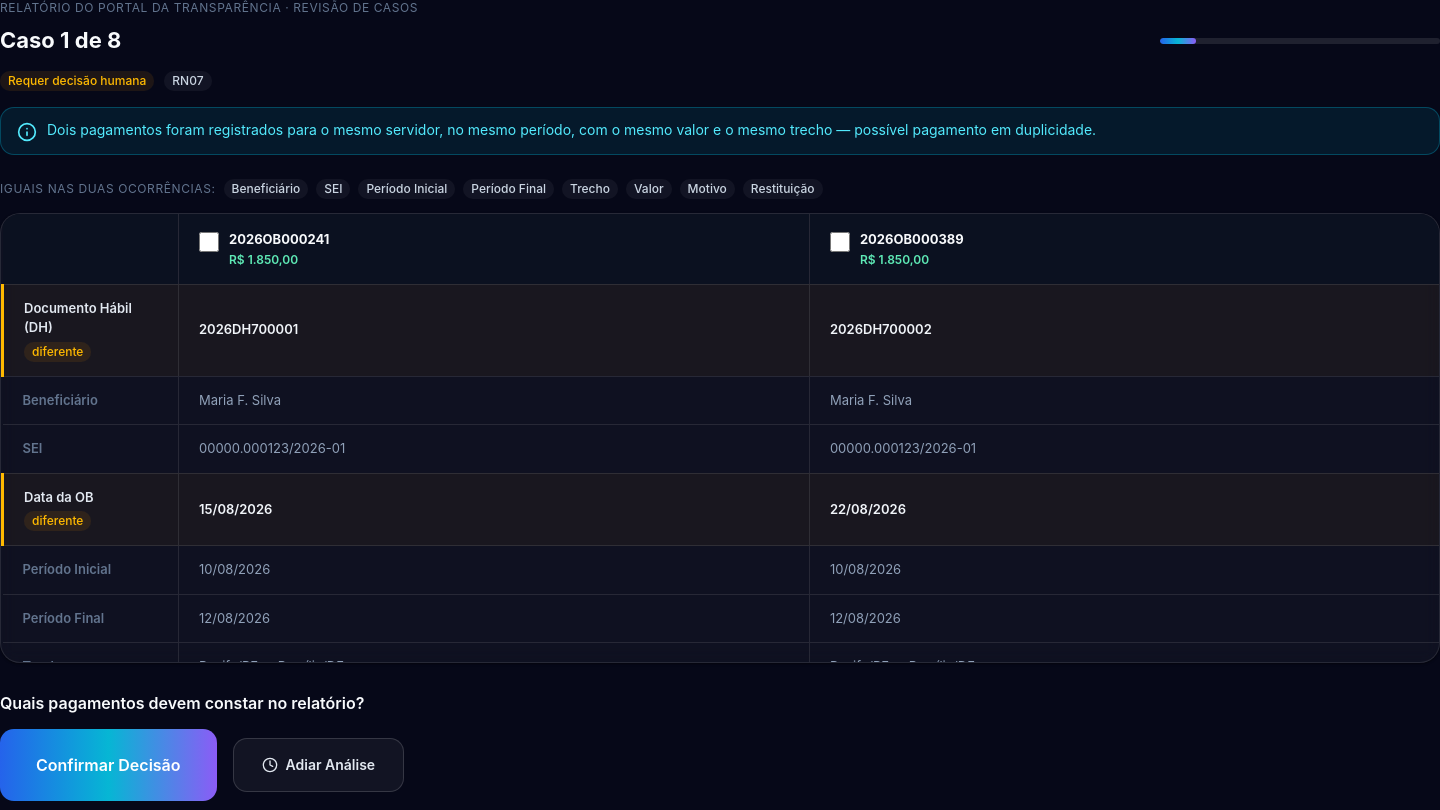
Scenario: PainelRevisaoCaso › diálogo de seleção vazia pede justificativa, só aparece nesse fluxo excepcional
Expected: the field labelled "Justificativa (obrigatória)" is not shown
Click the button "Confirmar Decisão": [108, 765] box [0,729,216,801]
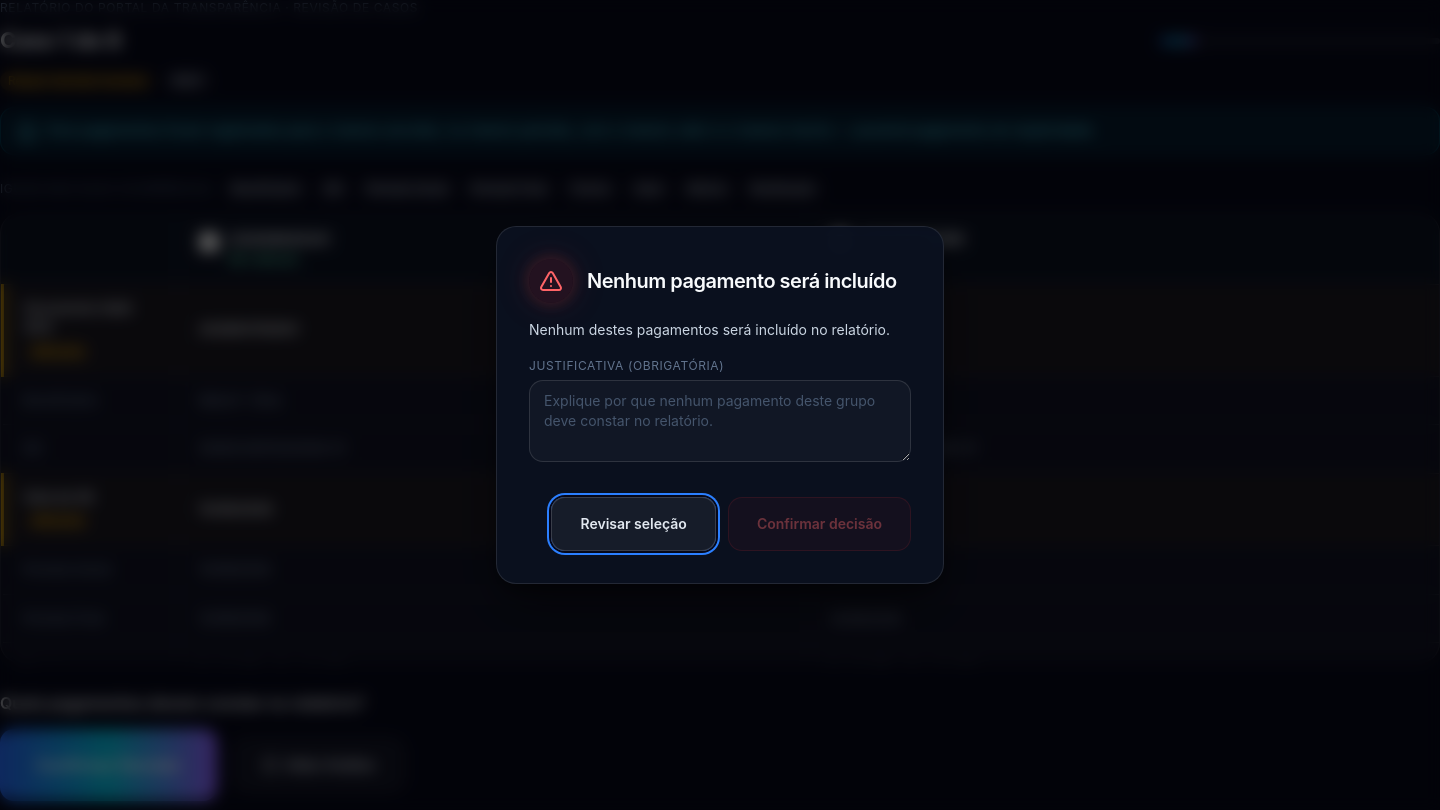
Now the text box labelled "Justificativa (obrigatória)" is shown, box [529,380,911,462]
